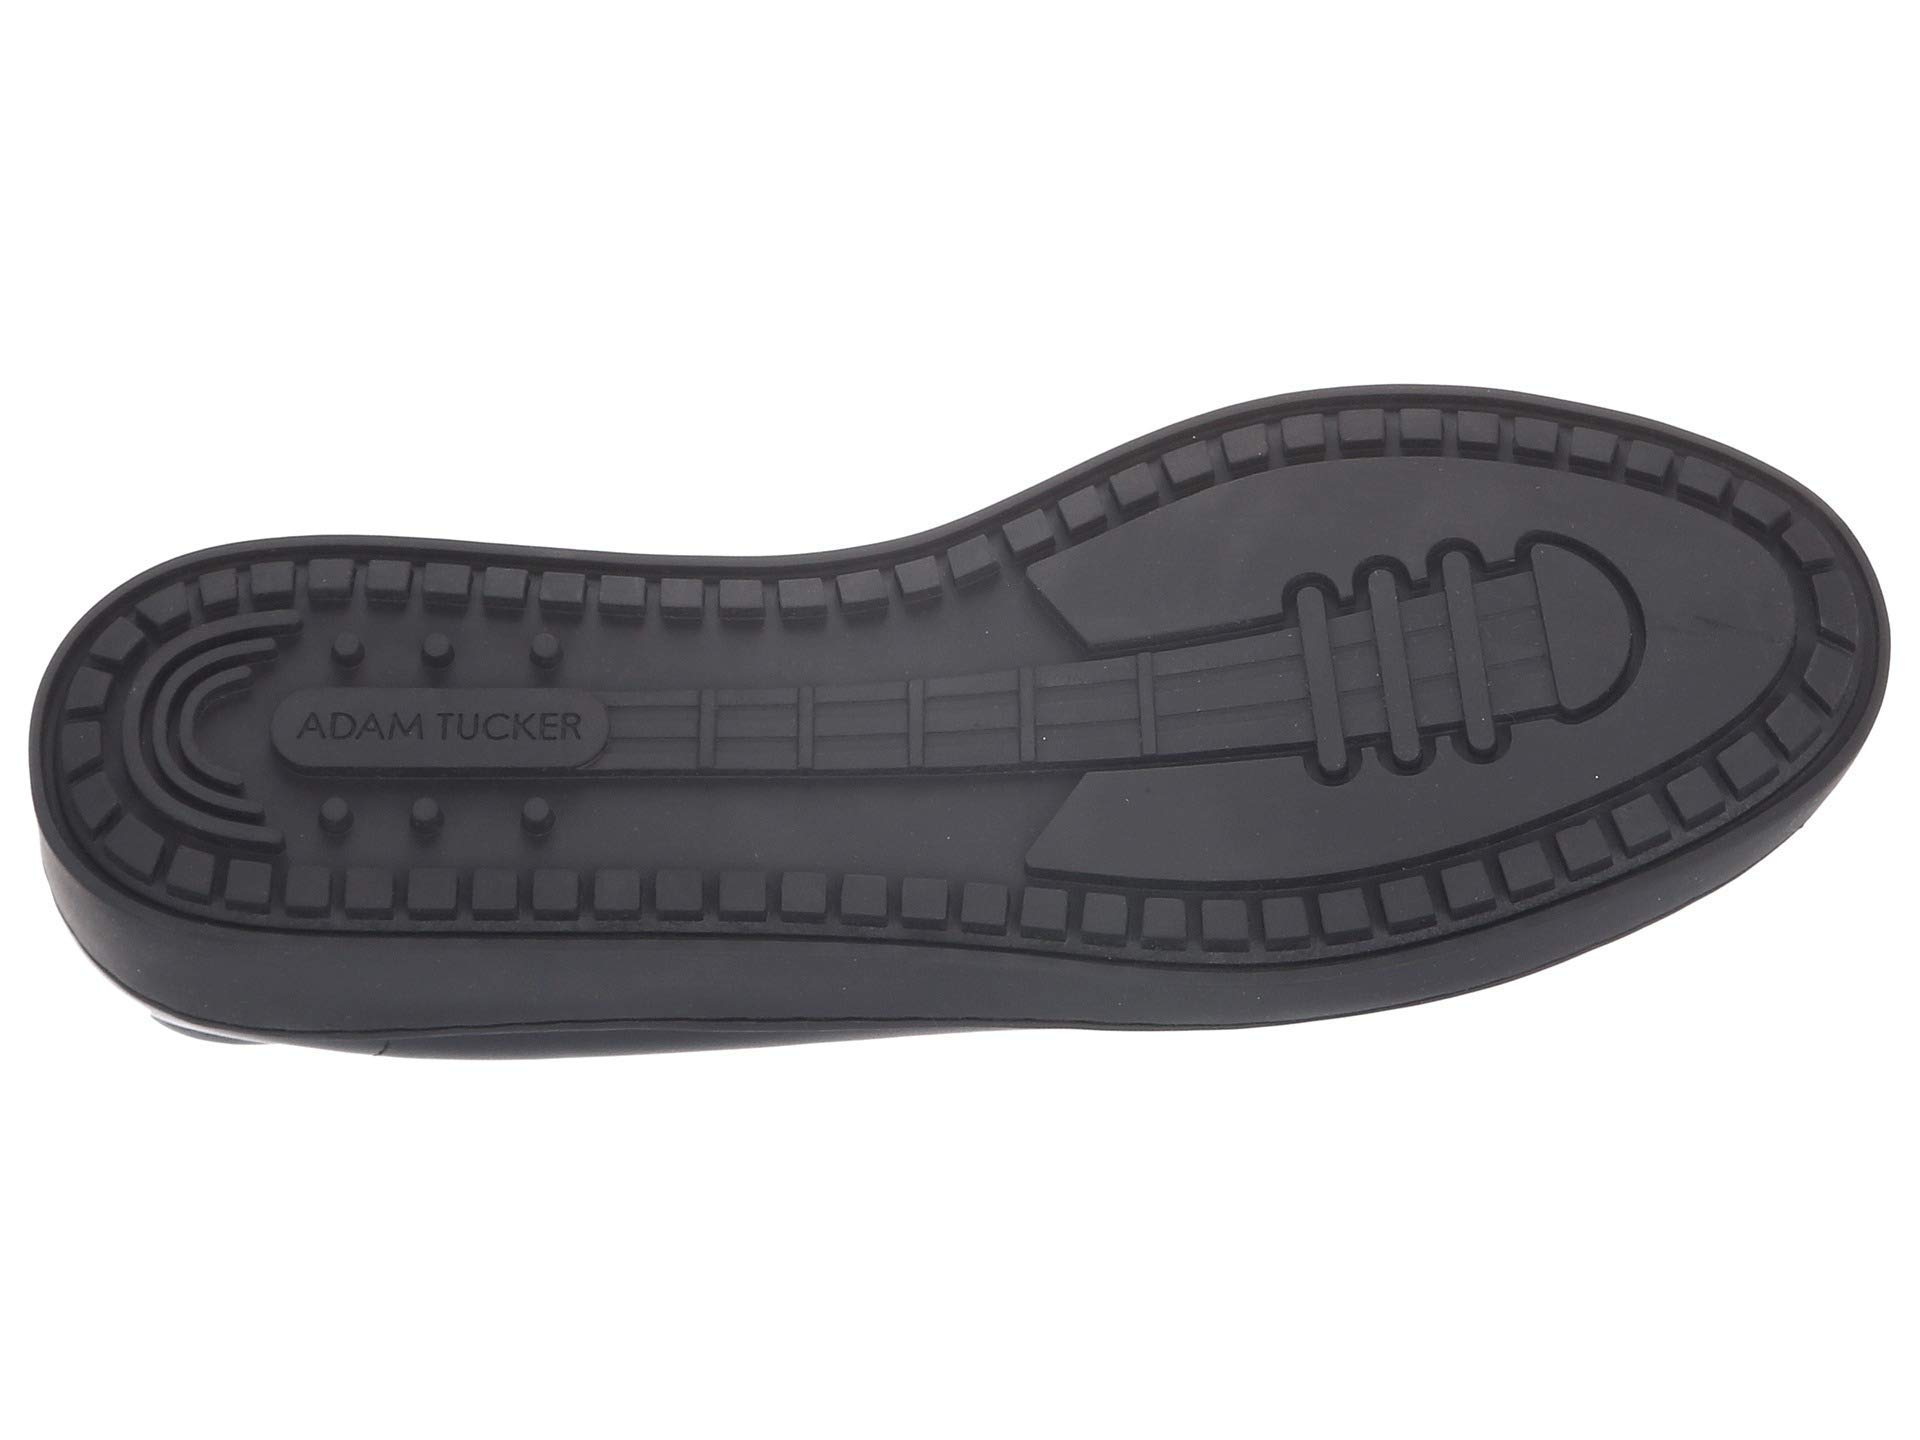circle: (206, 581, 608, 941)
line: (724, 635, 946, 838)
quad: (206, 581, 608, 941), (1110, 421, 1349, 616), (724, 635, 946, 838)
text: (206, 581, 608, 941)
